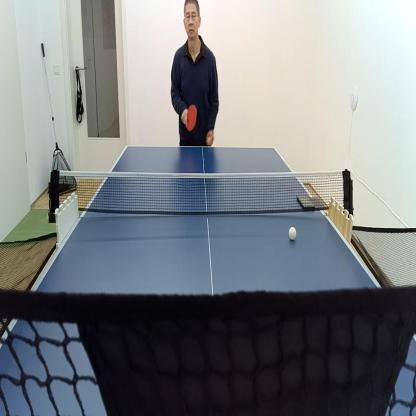Ball: (288, 224, 298, 243), (205, 134, 213, 146)
